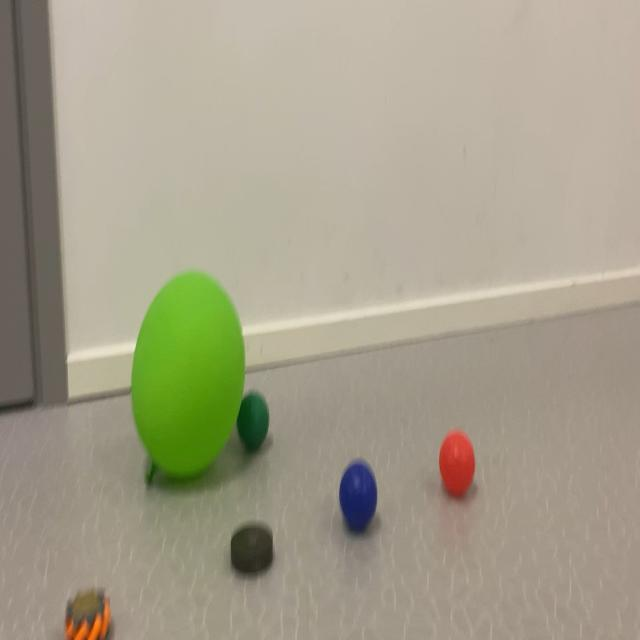blue ball: (340, 464, 385, 538)
green ball: (242, 392, 276, 450)
red ball: (436, 432, 480, 504)
